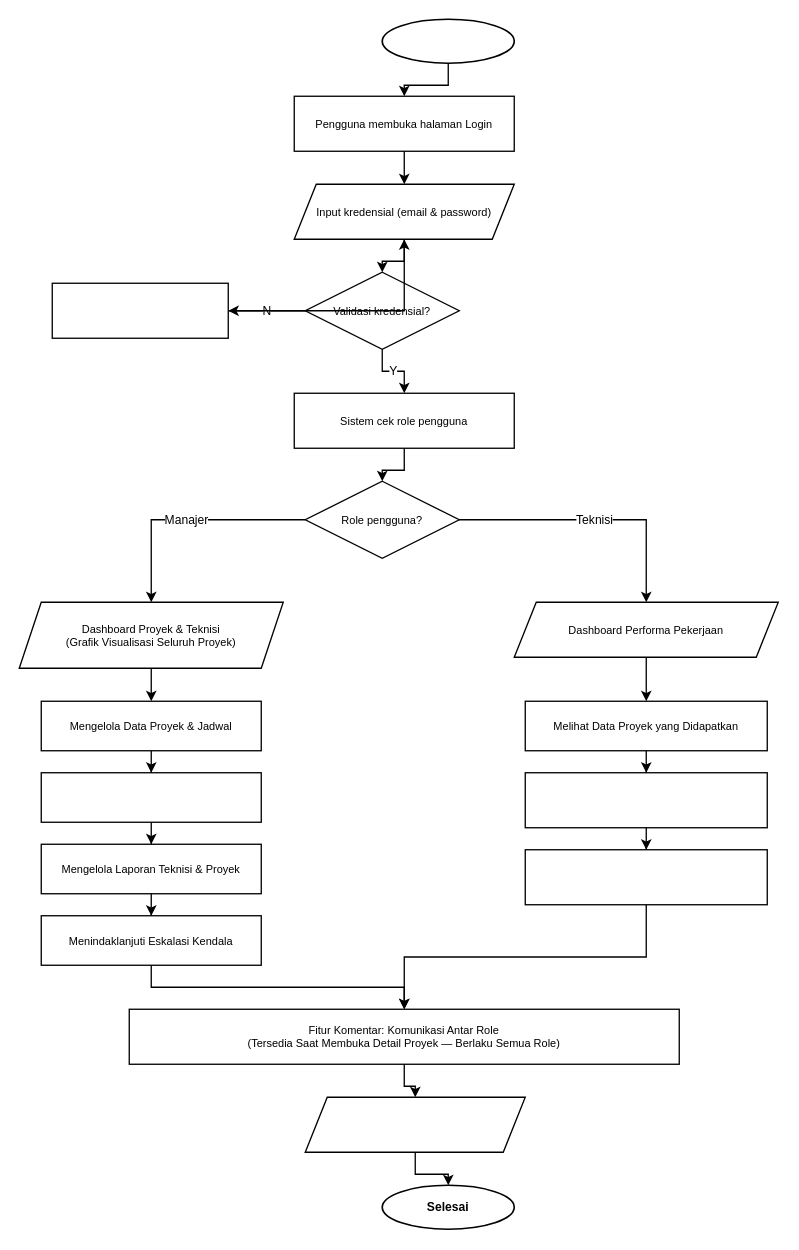
This 799x1250 diagram has some shape labels left out. Each missing label, with the centre of its shape:
Logout / Keluar Sistem: (414,1124)
Mengajukan Eskalasi Kendala ke Manajer: (645,877)
Mengelola Data Pelanggan: (150,797)
Mengelola Tugas Proyek Berjalan (Real-time): (645,800)
Mulai: (448,41)
Tampil pesan error: (139,310)
